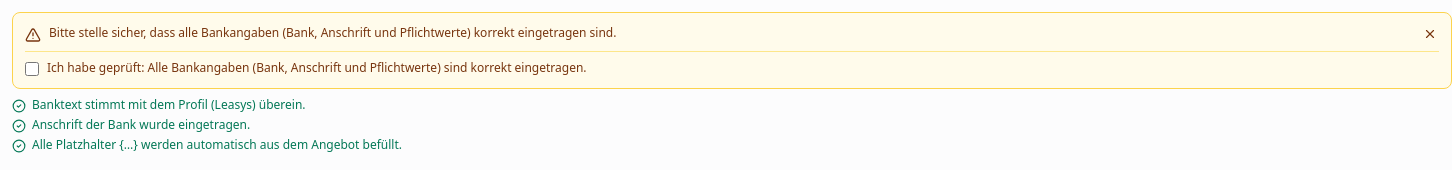
Scenario: BankLegalCheck confirmation › lets the user confirm the bank details via checkbox, which closes the notice
Check: the message is shown, box [12,12,1451,89]
Click the checkbox at (32,69), box [25,62,39,76]
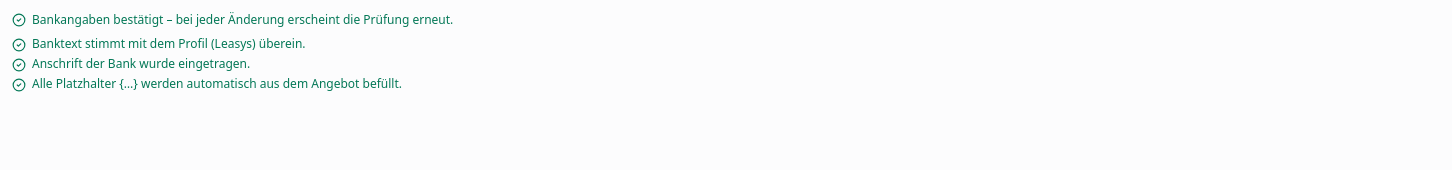
Check: the message is gone
Check: the text "Bankangaben bestätigt" is shown, box [32,11,453,28]
